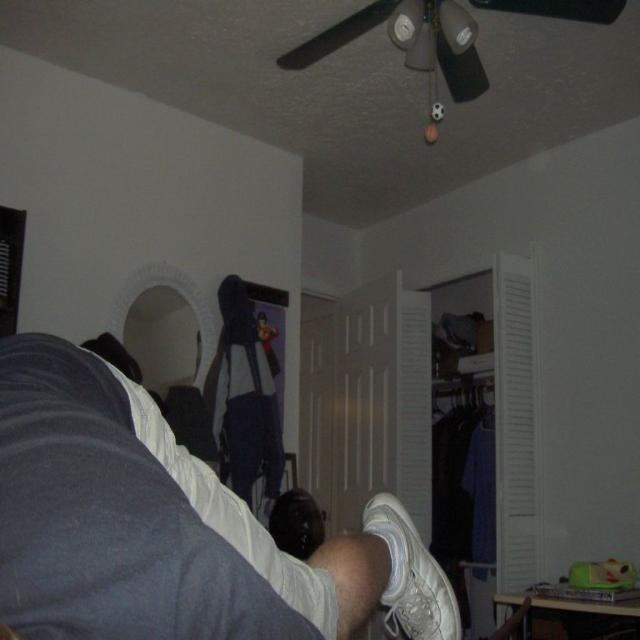Bulb: (275, 0, 626, 139)
